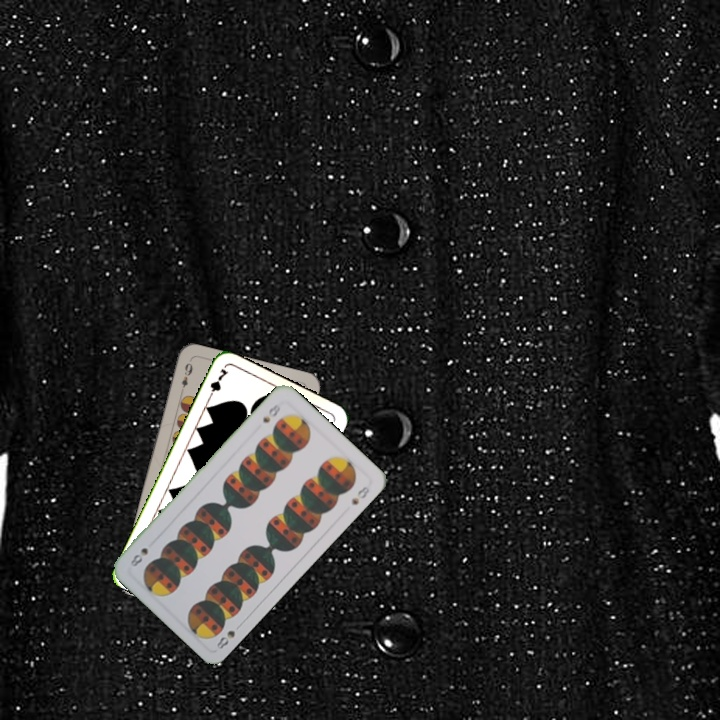E9: (177, 359, 195, 390)
G7: (204, 365, 231, 403)
S8: (212, 619, 245, 652), (259, 400, 283, 425)
